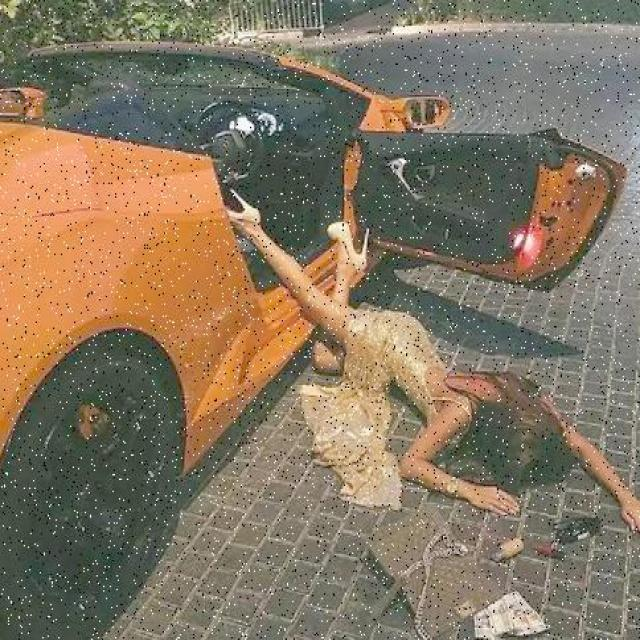fall: (243, 200, 635, 520)
